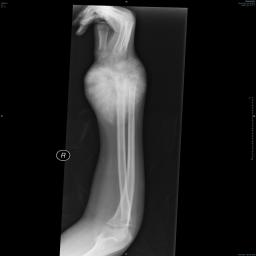cancer: (84, 59, 143, 122)
